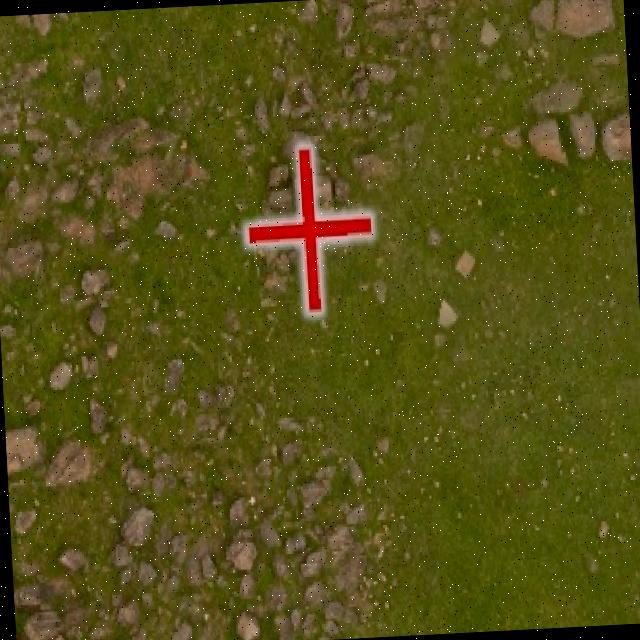x_marker: (242, 143, 374, 314)
